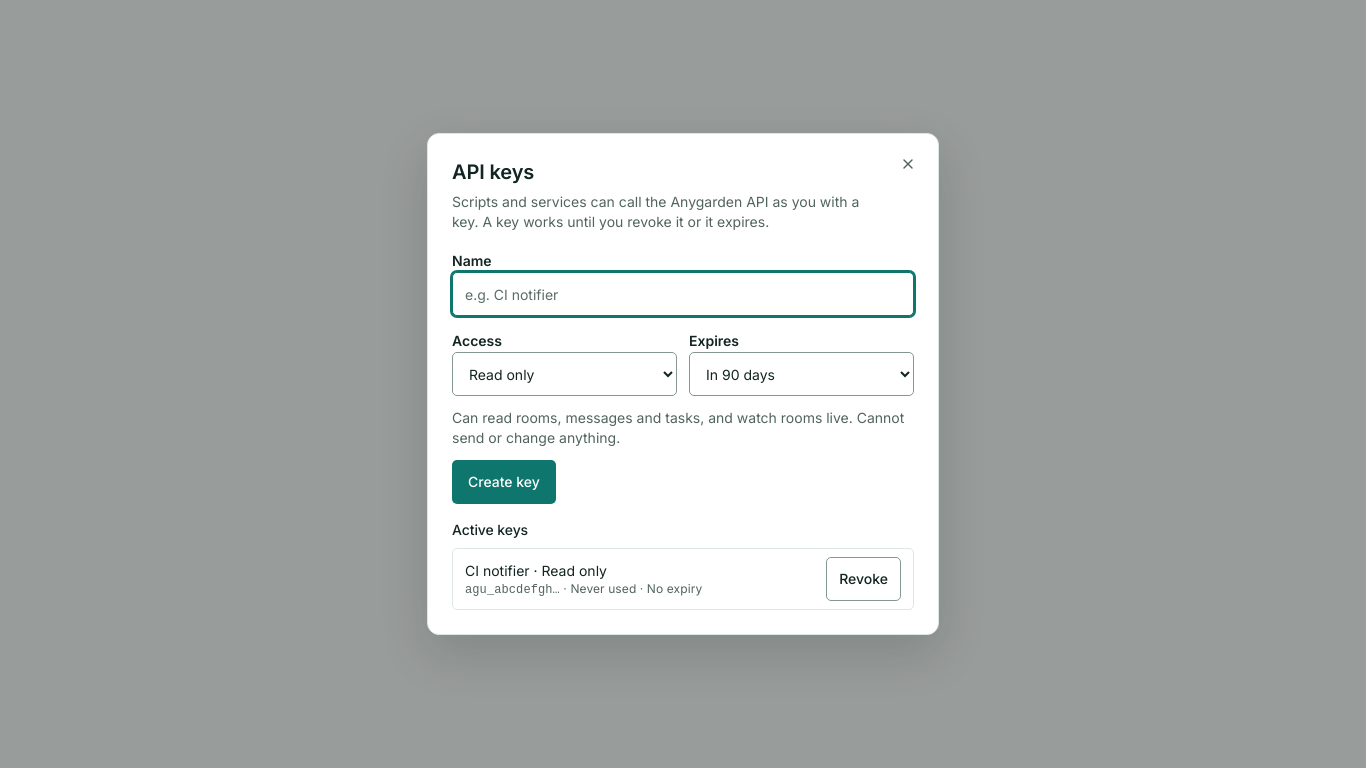
Test case: ApiKeysDialog › revokes a key after confirmation
Click the button with aria-label "Revoke CI notifier".
click(864, 579)  # box [826,557,901,601]
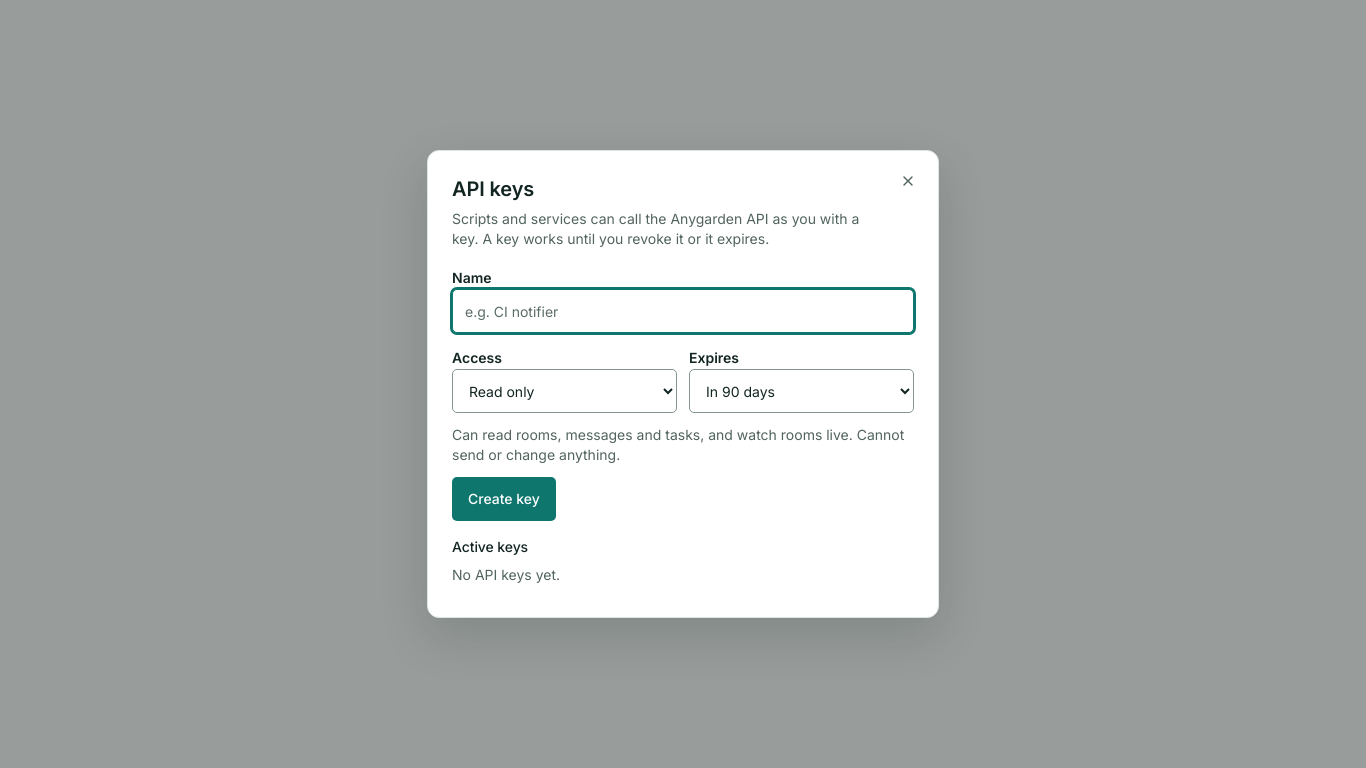
Result: the text "No API keys yet." is shown at [452,566,560,583]
